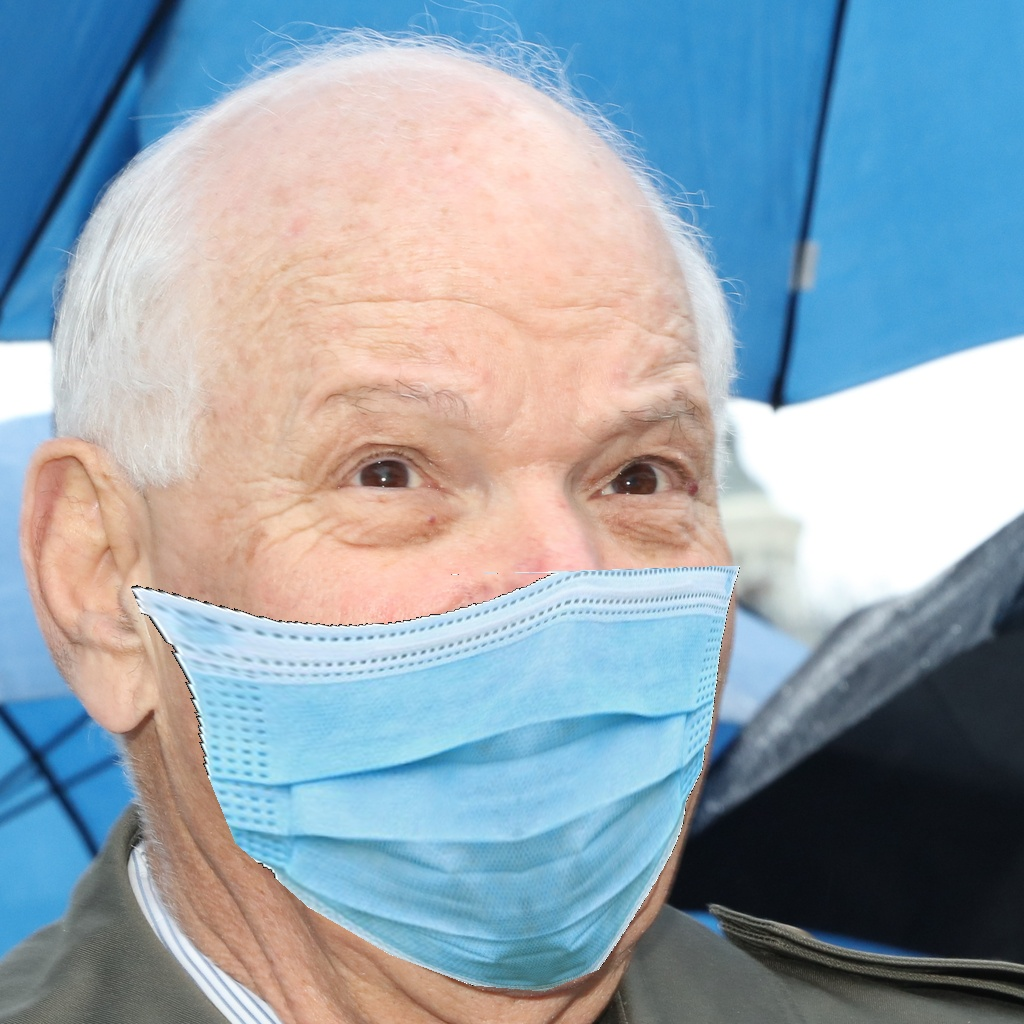Mask: (133, 323, 742, 998)
